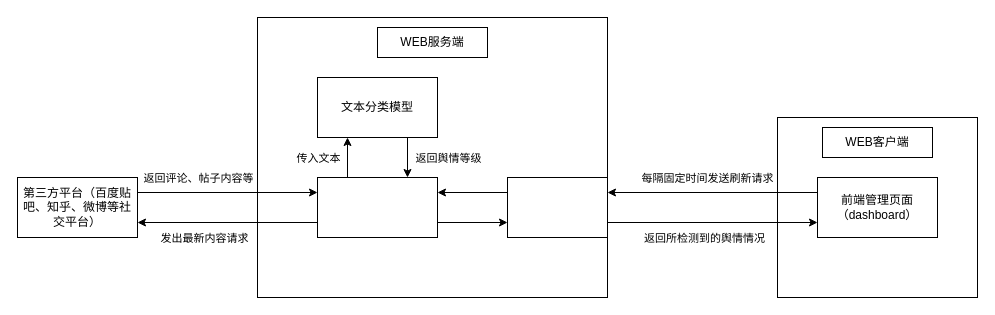
Image size: 995x315. Some labels were removed from this diagram. Each missing label, with the centre of its shape:
"主程序" goes at (377,207).
"服务端标准化接口" goes at (557,207).
